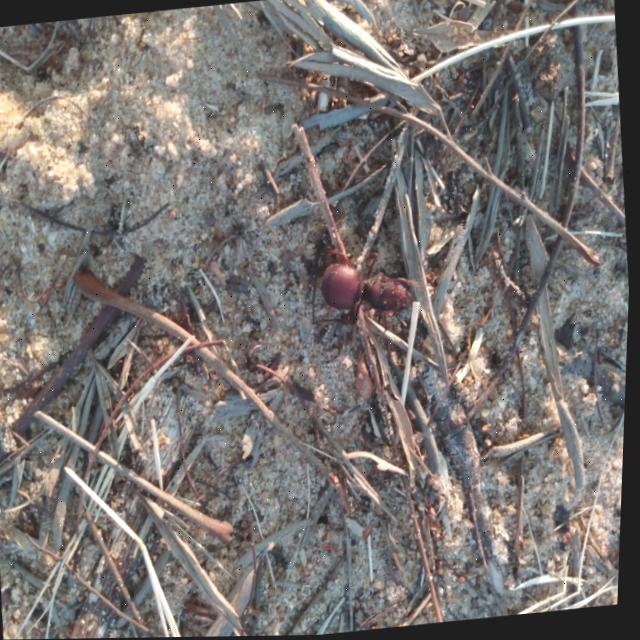Alive-Female-Dealate: (307, 242, 418, 330)
